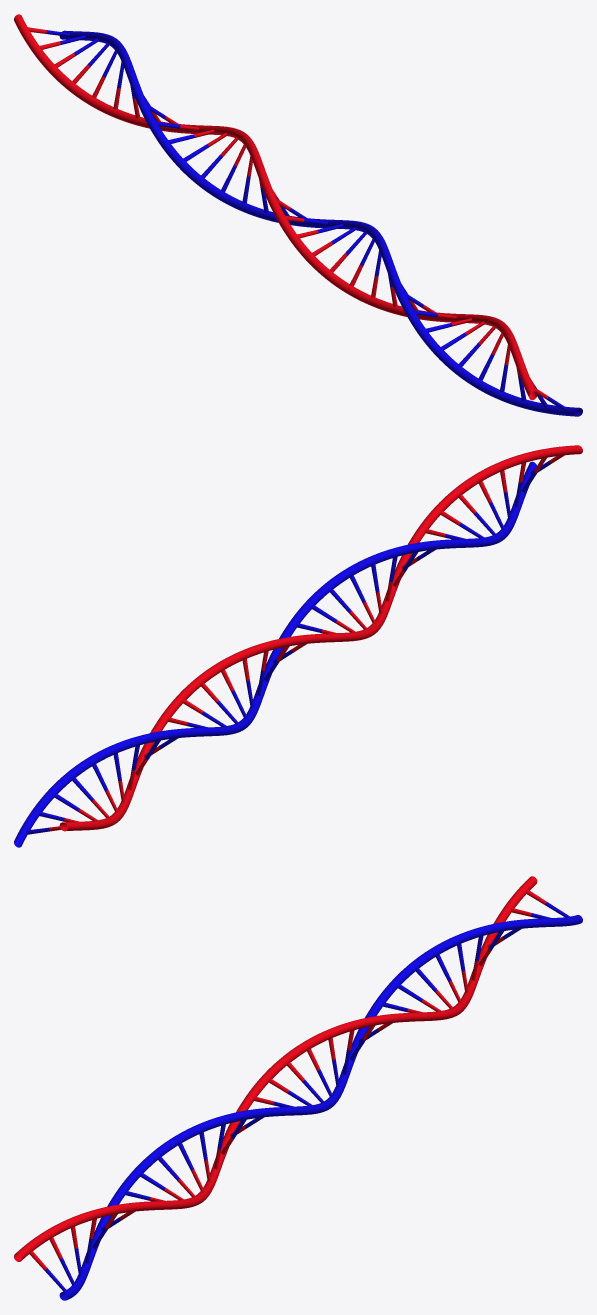
The model's file is dna.glb.
3 views of the same model, one above another, from view 1: azimuth 30°, elevation 25°; view 2: azimuth 150°, elevation 25°; view 3: azimuth 330°, elevation 25° (orthographic).
Parts seen in each view (by area): view 1: Cylinder.001, Cylinder.002; view 2: Cylinder.001, Cylinder.002; view 3: Cylinder.001, Cylinder.002.
Part boxes in pixels (bbox=[...]): Cylinder.001: bbox=[46, 30, 582, 416]; Cylinder.002: bbox=[14, 14, 548, 400]; Cylinder.001: bbox=[14, 460, 551, 847]; Cylinder.002: bbox=[49, 445, 582, 831]; Cylinder.001: bbox=[44, 902, 582, 1300]; Cylinder.002: bbox=[14, 876, 546, 1270].
Bounding box in the file's own units: 2.46 × 2.46 × 36.
